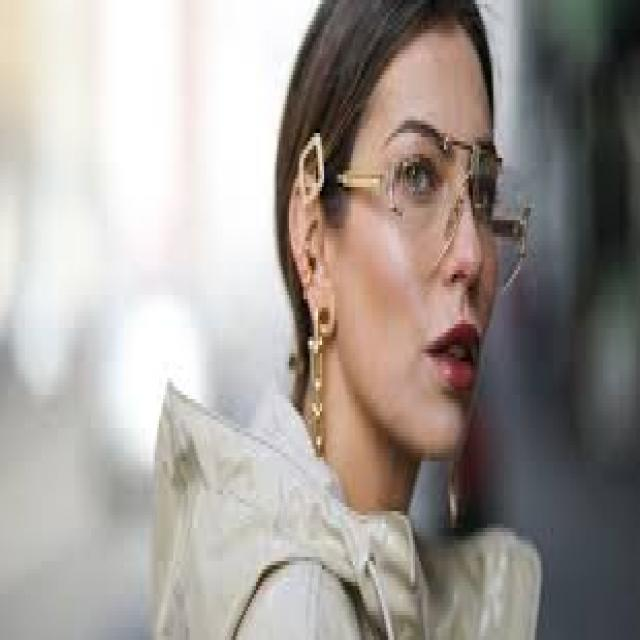Glasses: (332, 146, 530, 304)
